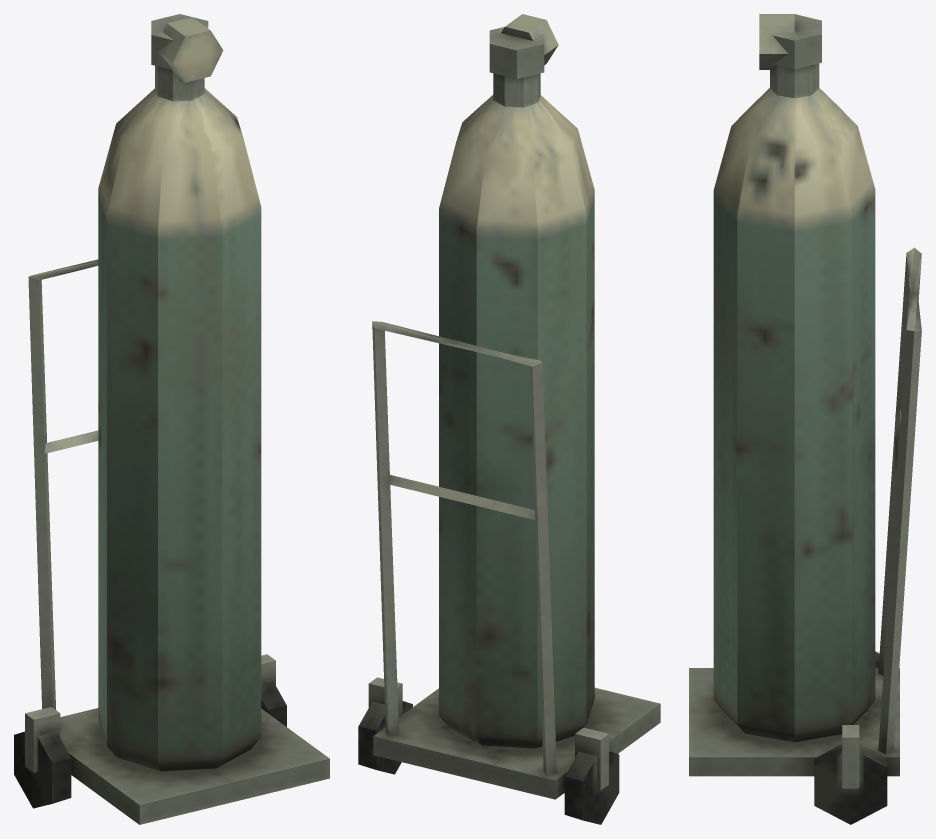
File: Oxygen_Tank_01.obj
3 views of the same model, side by side, from view 1: azimuth 30°, elevation 25°; view 2: azimuth 150°, elevation 25°; view 3: azimuth 270°, elevation 25° (orthographic). The views are drawn at different scales.
Parts seen in each view (by area): view 1: Oxygen_Tank_01; view 2: Oxygen_Tank_01; view 3: Oxygen_Tank_01.
Boxes of the visible parts, box(x1,y1,x2,y2) form: Oxygen_Tank_01: box(14, 14, 329, 824); Oxygen_Tank_01: box(358, 14, 660, 824); Oxygen_Tank_01: box(689, 14, 921, 824).
Bounding box in the file's own units: 0.382 × 1.18 × 0.331.
1 material, 1 textured.
